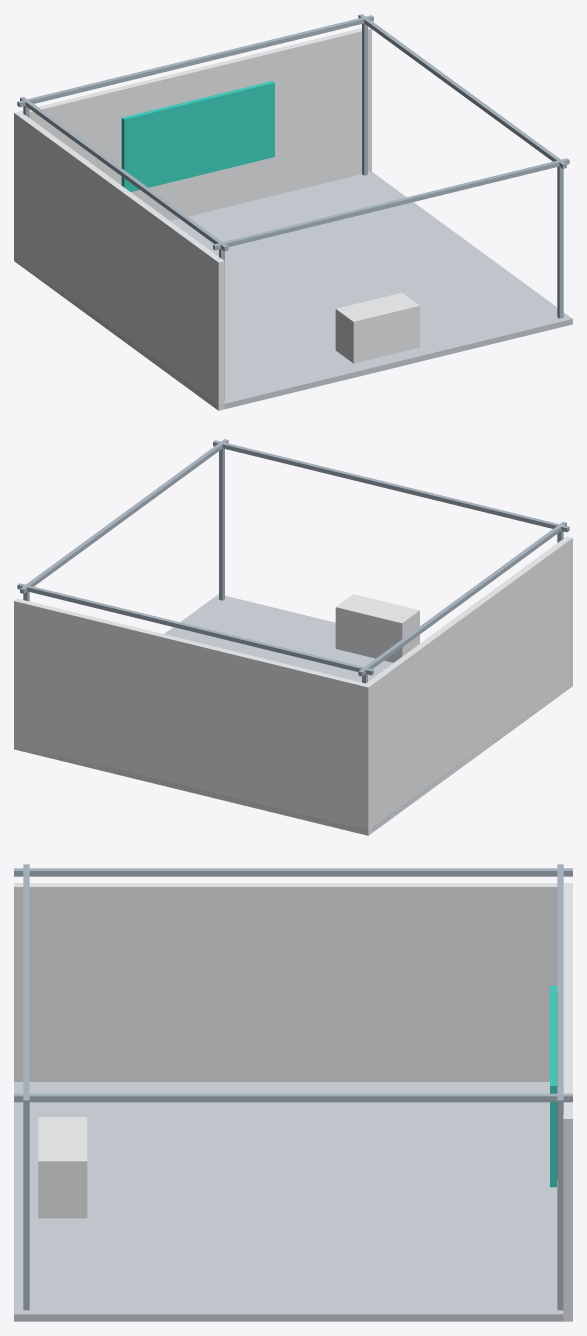
3 views of the same model, one above another, from view 1: azimuth 30°, elevation 25°; view 2: azimuth 150°, elevation 25°; view 3: azimuth 270°, elevation 25° (orthographic). The views are drawn at different scales.
Visible parts, largest first — view 1: Exhibition Booth Concept; view 2: Exhibition Booth Concept; view 3: Exhibition Booth Concept.
Boxes of the visible parts, left/top/right/bottom form: Exhibition Booth Concept: left=14, top=14, right=572, bottom=410; Exhibition Booth Concept: left=14, top=439, right=572, bottom=835; Exhibition Booth Concept: left=14, top=864, right=572, bottom=1321.
Bounding box in the file's own units: 8 × 3.49 × 8.
